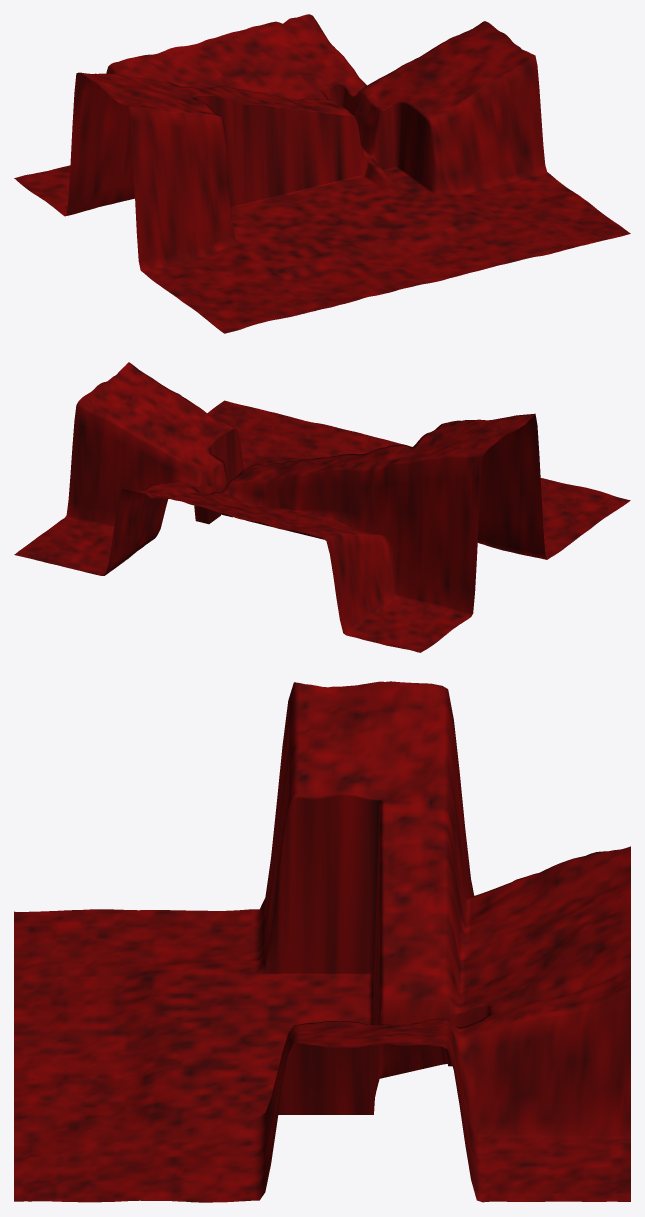
The model's file is quellan_ground.glb.
The picture shows the model from 3 angles, top to bottom: view 1: azimuth 30°, elevation 25°; view 2: azimuth 150°, elevation 25°; view 3: azimuth 270°, elevation 25°; orthographic projection. The views are drawn at different scales.
Visible parts, largest first — view 1: quellan_ground; view 2: quellan_ground; view 3: quellan_ground.
Part boxes in pixels (<box>): quellan_ground: <box>14,14,630,333</box>; quellan_ground: <box>14,362,630,652</box>; quellan_ground: <box>14,681,630,1202</box>.
Size of what is drawn, in the model's own units: 145 by 53.61 by 130.
